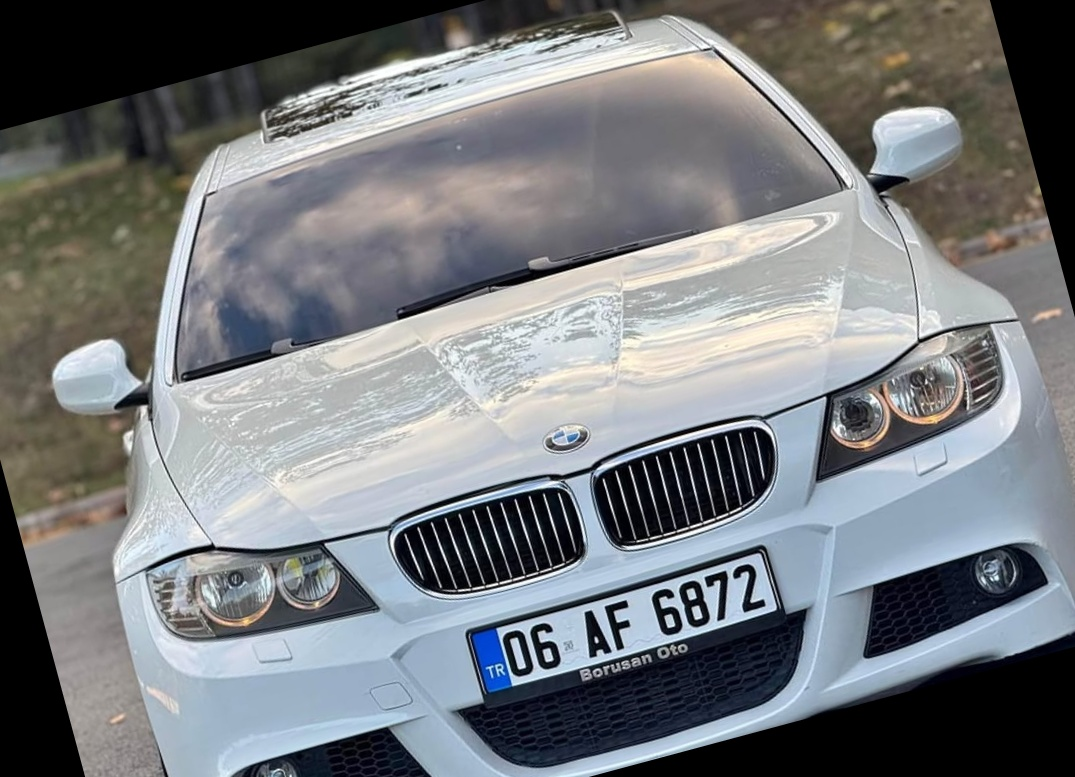plaka: (499, 561, 785, 684)
